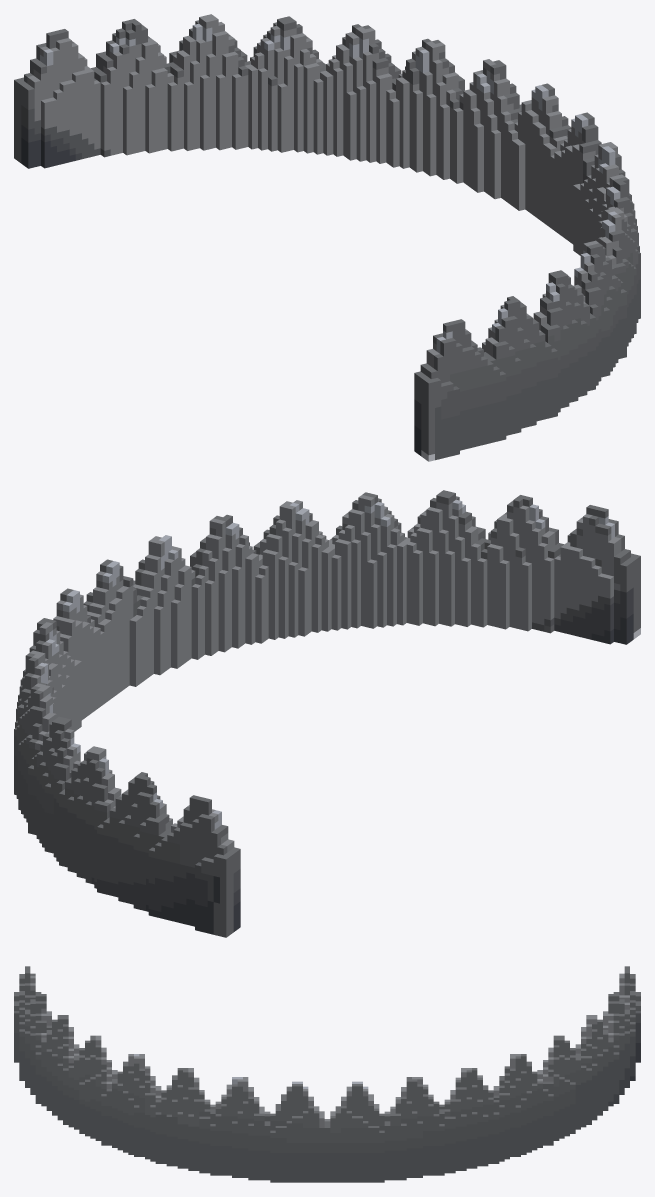
File: trap_l.FBX
The picture shows the model from 3 angles, top to bottom: view 1: azimuth 30°, elevation 25°; view 2: azimuth 150°, elevation 25°; view 3: azimuth 270°, elevation 25°; orthographic projection. The views are drawn at different scales.
Visible parts, largest first — view 1: default013; view 2: default013; view 3: default013.
Part boxes in pixels (left/top/right/bottom): default013: left=14, top=14, right=640, bottom=461; default013: left=14, top=490, right=640, bottom=937; default013: left=14, top=966, right=640, bottom=1182.
Bounding box in the file's own units: 723 × 241 × 1458.
